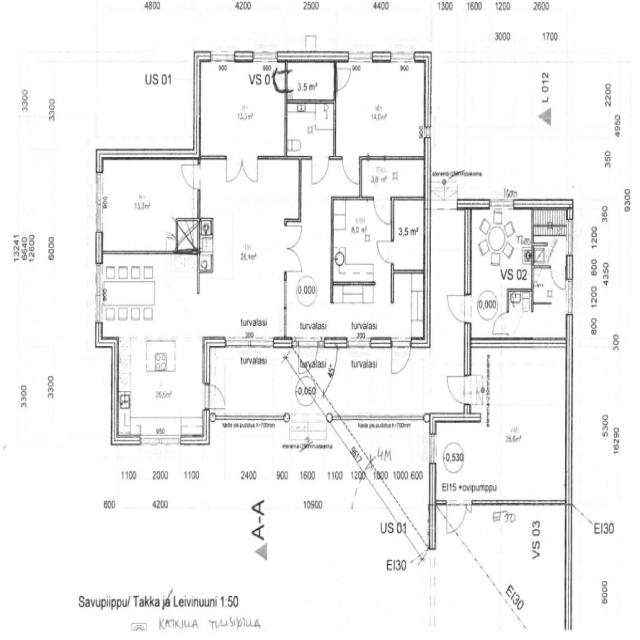door: (283, 220, 306, 276), (223, 152, 260, 186), (390, 337, 412, 377), (445, 372, 468, 407), (445, 292, 469, 324), (446, 500, 468, 534), (296, 338, 320, 369), (204, 382, 228, 411), (341, 155, 362, 186), (180, 160, 201, 191), (372, 195, 392, 226), (310, 154, 329, 186), (374, 238, 396, 265), (334, 64, 352, 92), (490, 311, 510, 336), (551, 267, 566, 291)
window: (225, 332, 278, 348), (94, 169, 106, 237), (136, 434, 182, 450), (508, 600, 529, 632), (93, 260, 104, 318), (427, 450, 437, 502), (564, 279, 575, 319), (388, 50, 416, 65), (250, 50, 280, 64), (346, 50, 374, 65), (487, 197, 516, 211), (427, 430, 438, 466), (343, 336, 372, 349), (566, 218, 575, 258), (208, 50, 235, 63), (421, 122, 433, 144), (282, 277, 289, 310)
zone: (200, 157, 286, 338), (497, 347, 566, 503), (96, 157, 198, 253), (116, 338, 206, 442), (334, 60, 426, 159), (197, 60, 286, 158), (100, 256, 202, 336), (434, 418, 500, 501), (466, 207, 533, 288), (331, 198, 391, 286), (286, 101, 335, 158), (360, 157, 424, 199), (532, 202, 569, 270), (392, 198, 424, 273), (286, 62, 336, 102), (507, 289, 532, 337), (490, 310, 510, 336), (431, 172, 445, 198)
